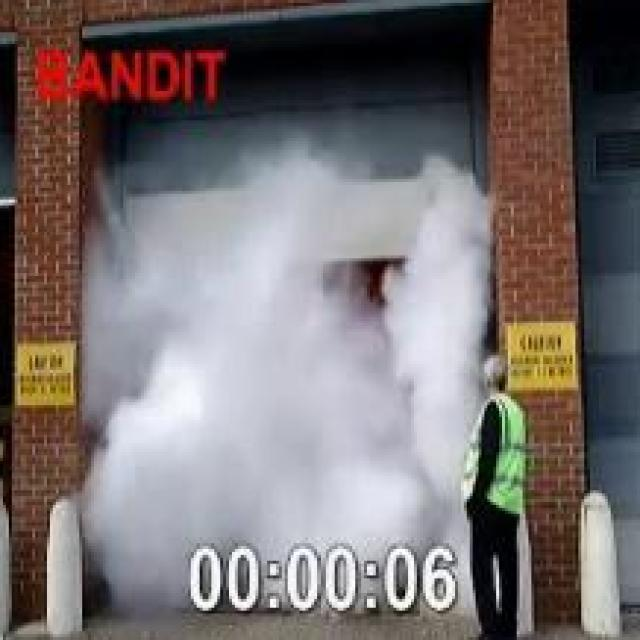fire: (79, 140, 496, 614)
